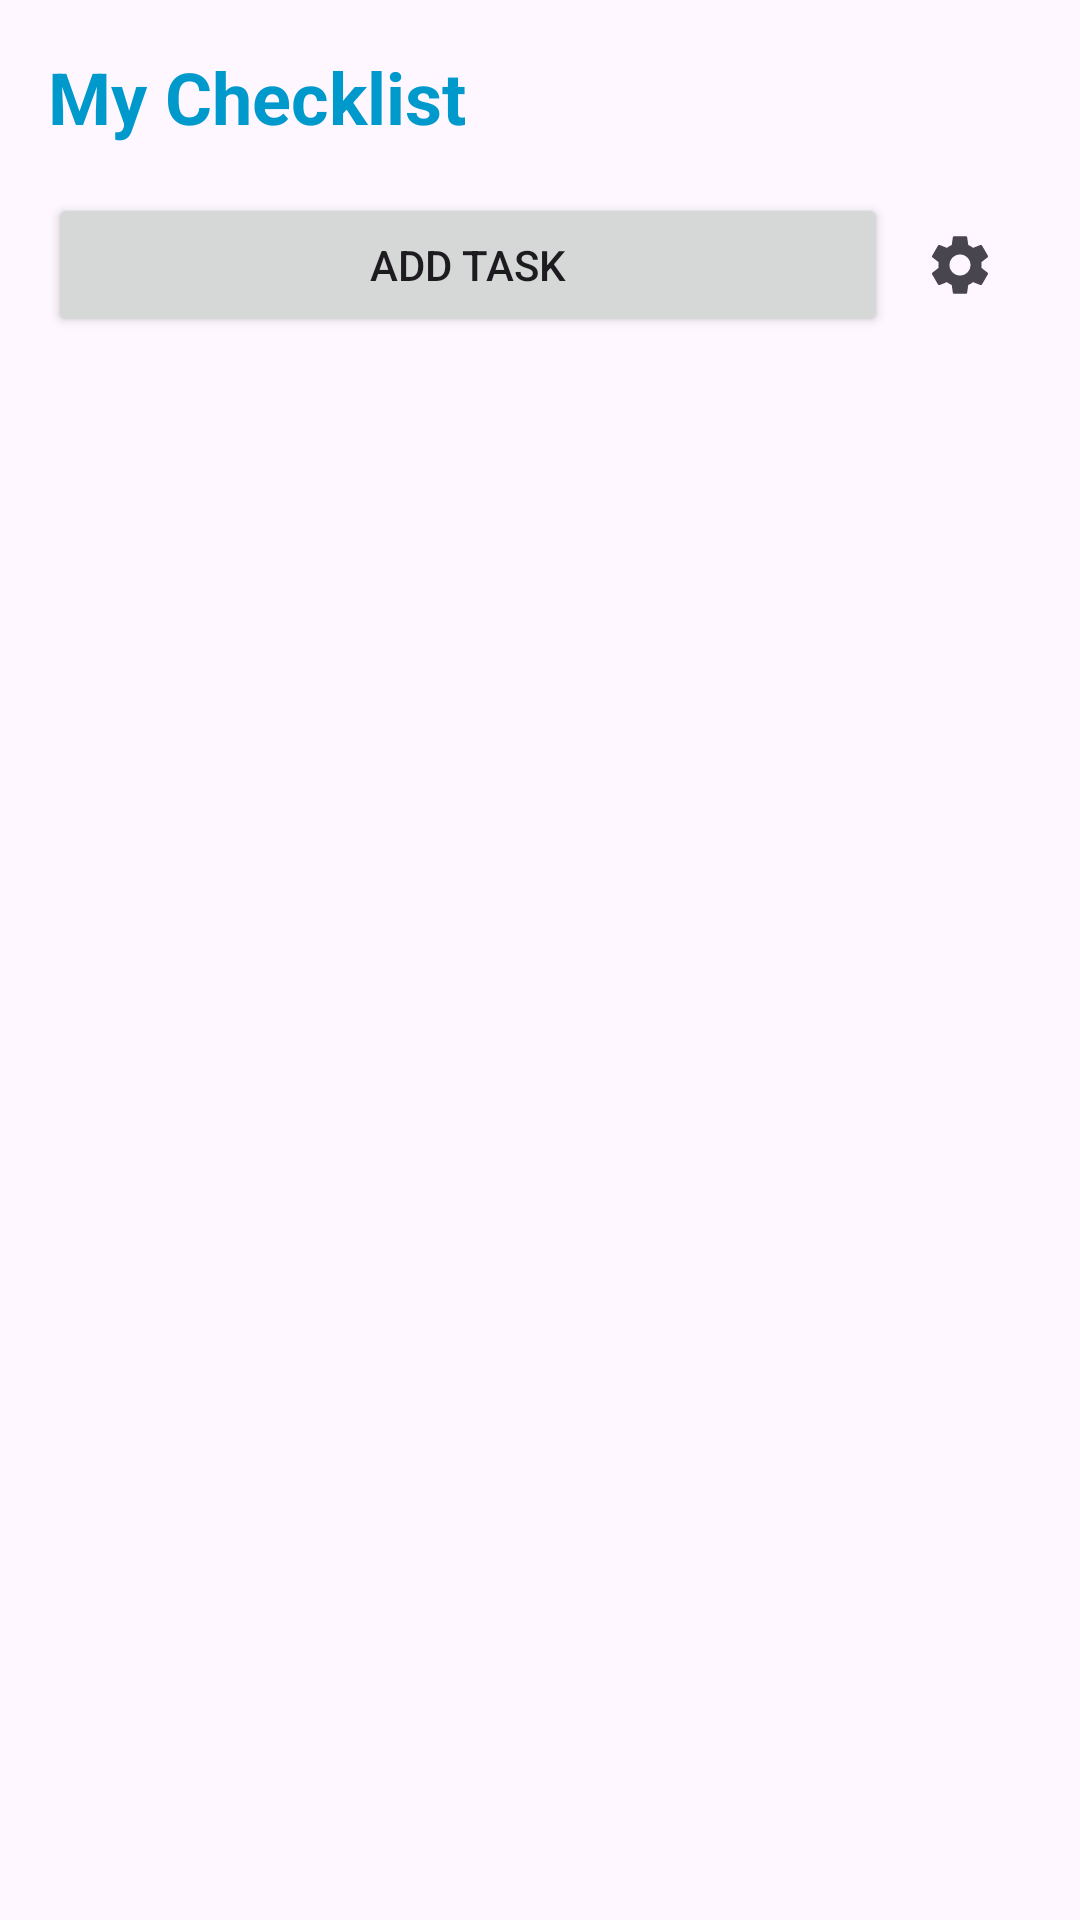

Where icons sit on this 1080×1920 app screen, as (x1, y1, x2, y2):
Settings: (932, 236, 988, 294)
